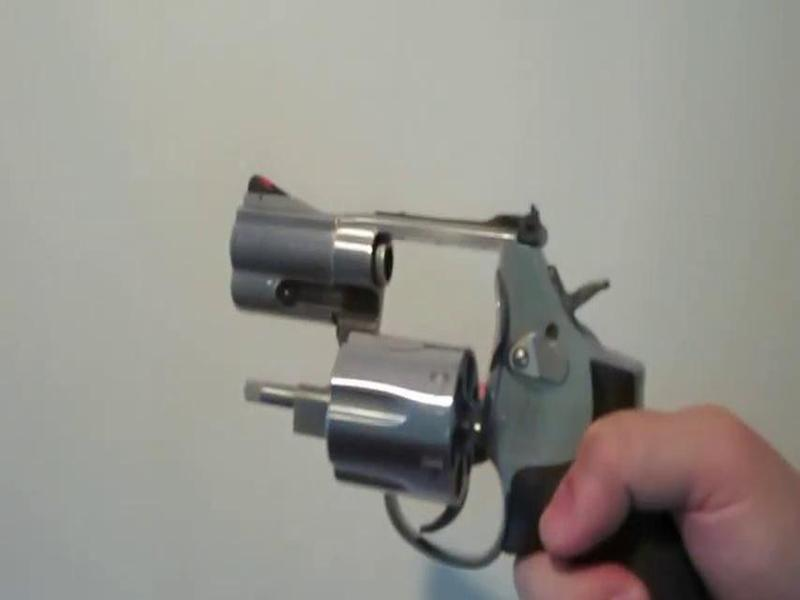Revolver: (223, 168, 711, 590)
